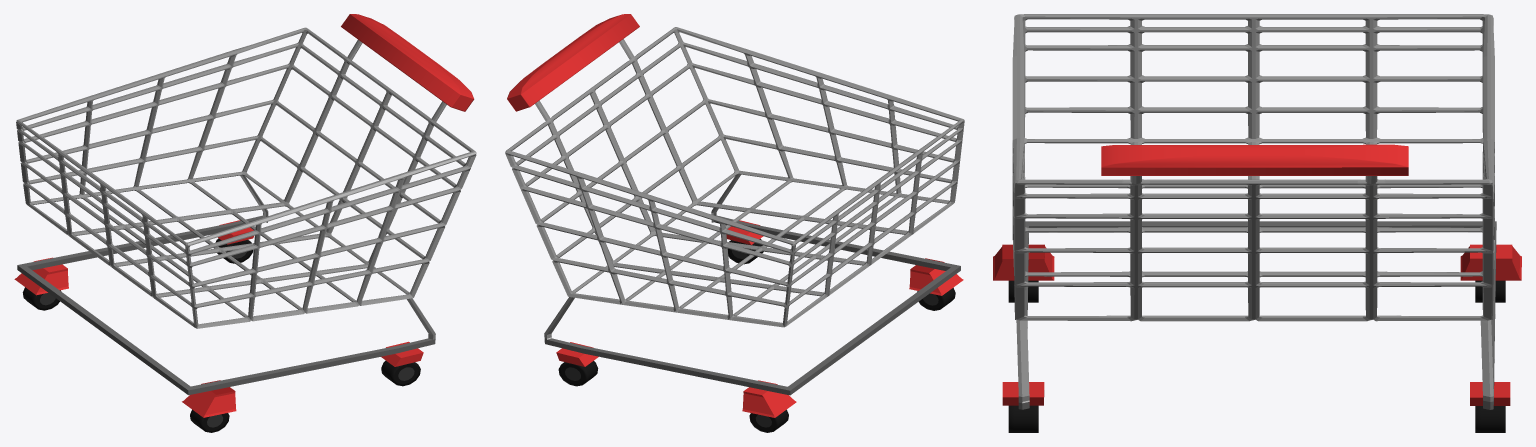
The model's file is bigboi cart.fbx.
3 views of the same model, side by side, from view 1: azimuth 30°, elevation 25°; view 2: azimuth 150°, elevation 25°; view 3: azimuth 270°, elevation 25° (orthographic). The views are drawn at different scales.
Visible parts, largest first — view 1: cart; view 2: cart; view 3: cart.
Part boxes in pixels (bbox=[...]): cart: bbox=[14, 14, 476, 432]; cart: bbox=[505, 14, 964, 432]; cart: bbox=[993, 14, 1521, 432].
Size of the model in its own units: 128 by 94.9 by 131.
